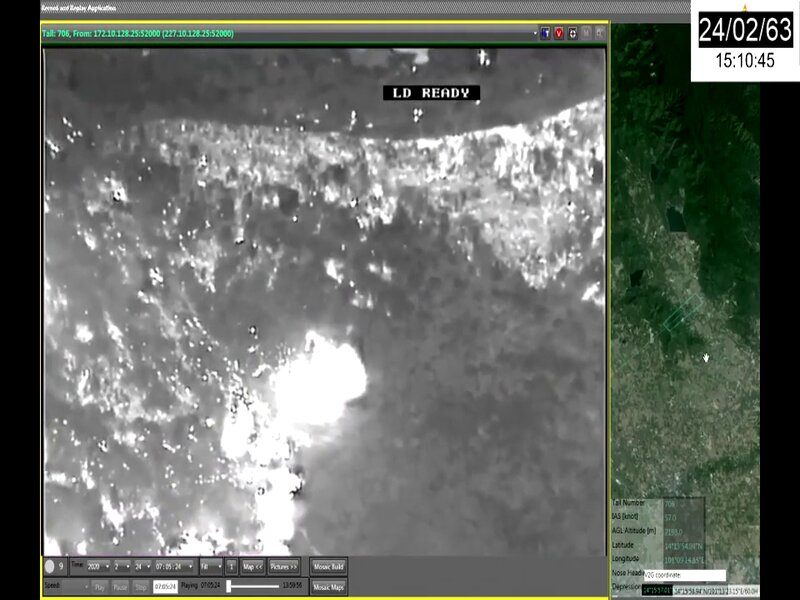Fire: (170, 330, 367, 550)
